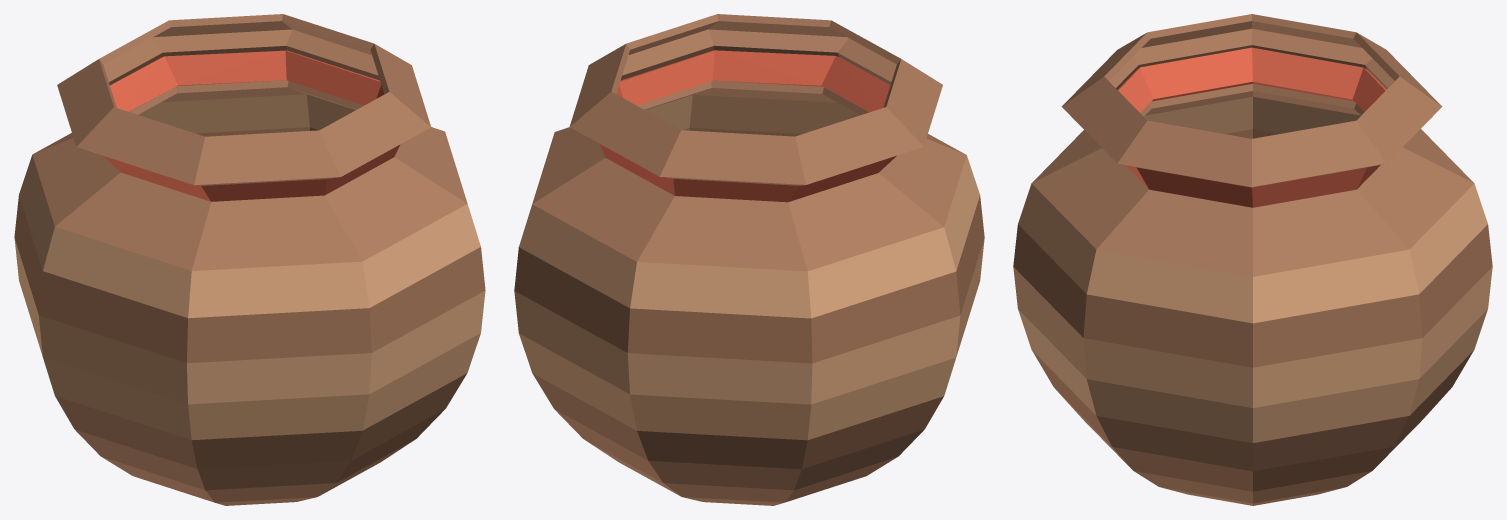
File: SL_Vase3.fbx
3 renders of one model, left to right at view 1: azimuth 30°, elevation 25°; view 2: azimuth 150°, elevation 25°; view 3: azimuth 270°, elevation 25°, orthographic.
Parts seen in each view (by area): view 1: Jarron1.001; view 2: Jarron1.001; view 3: Jarron1.001.
Boxes of the visible parts, left/top/right/bottom form: Jarron1.001: left=14, top=14, right=485, bottom=505; Jarron1.001: left=514, top=14, right=984, bottom=505; Jarron1.001: left=1013, top=14, right=1492, bottom=505.
Size of the model in its own units: 210 by 188 by 210.
